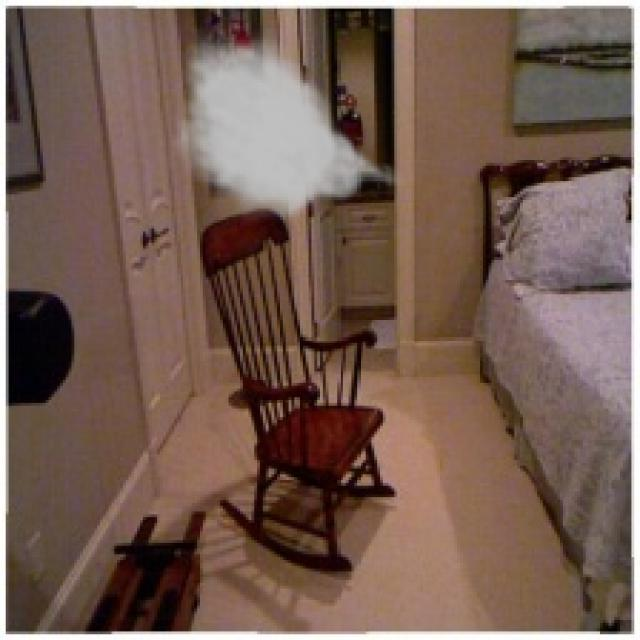smoke: (172, 26, 408, 226)
